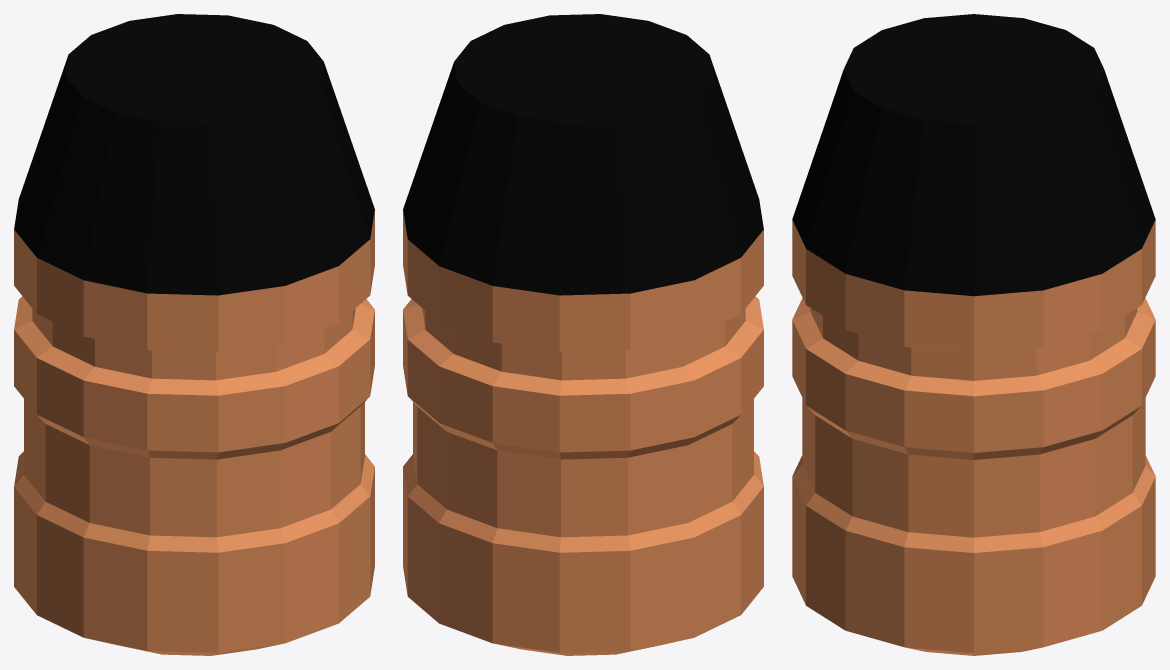
File: Magnum.fbx
3 views of the same model, side by side, from view 1: azimuth 30°, elevation 25°; view 2: azimuth 150°, elevation 25°; view 3: azimuth 270°, elevation 25° (orthographic).
Visible parts, largest first — view 1: Cylinder.003; view 2: Cylinder.003; view 3: Cylinder.003.
Boxes of the visible parts, bbox=[...] form: Cylinder.003: bbox=[14, 14, 374, 655]; Cylinder.003: bbox=[403, 14, 763, 655]; Cylinder.003: bbox=[792, 14, 1155, 655].
Bounding box in the file's own units: 1.03 × 1.68 × 1.03.
